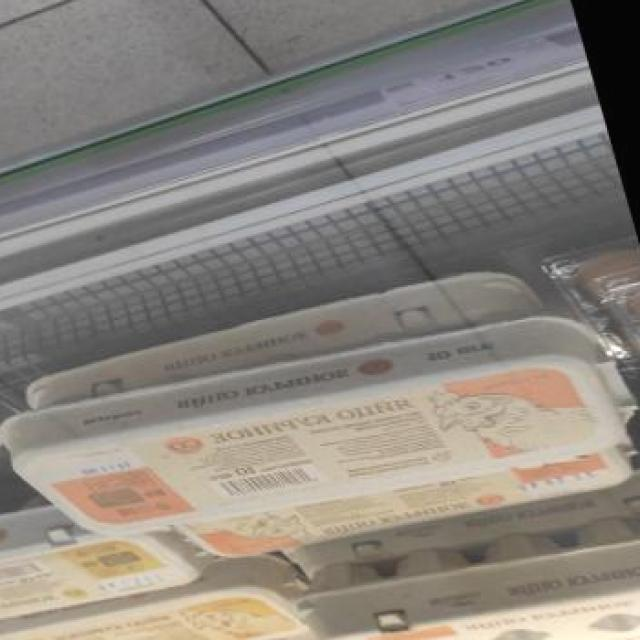egg: (0, 309, 640, 549)
